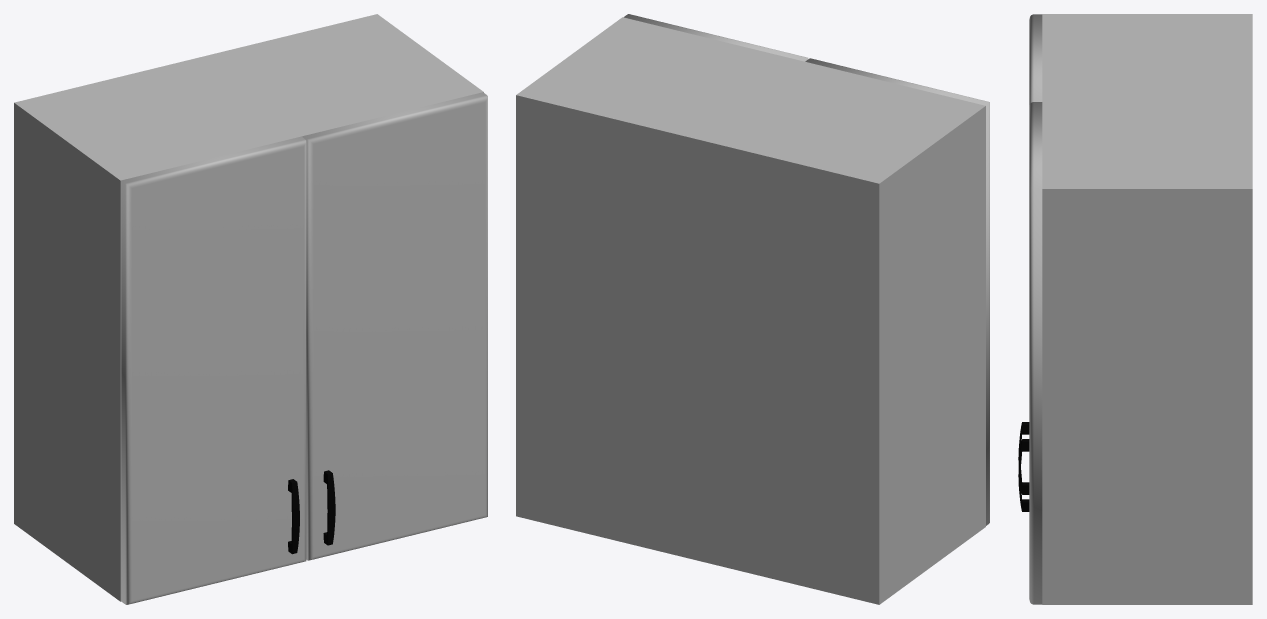
The picture shows the model from 3 angles, left to right: view 1: azimuth 30°, elevation 25°; view 2: azimuth 150°, elevation 25°; view 3: azimuth 270°, elevation 25°; orthographic projection.
Visible parts, largest first — view 1: Box001, Box011, Box012, Obj3d66-503491-2-345, Obj3d66-503491-2-344; view 2: Box001, Box011, Box012; view 3: Box001, Box012, Box011, Obj3d66-503491-2-345, Obj3d66-503491-2-344.
Part boxes in pixels (x1,y1,x2,y2): Box001: [14, 14, 483, 601]; Box011: [121, 136, 306, 604]; Box012: [303, 92, 487, 560]; Obj3d66-503491-2-345: [323, 470, 335, 545]; Obj3d66-503491-2-344: [288, 479, 299, 554]; Box001: [516, 17, 985, 604]; Box011: [805, 58, 989, 525]; Box012: [624, 14, 808, 61]; Box001: [1042, 14, 1252, 604]; Box012: [1029, 102, 1042, 604]; Box011: [1029, 14, 1042, 106]; Obj3d66-503491-2-345: [1018, 439, 1029, 511]; Obj3d66-503491-2-344: [1018, 422, 1029, 494].
Size of the model in its own units: 0.65 by 0.72 by 0.3671.
Materials: 2 (1 with a texture image).
